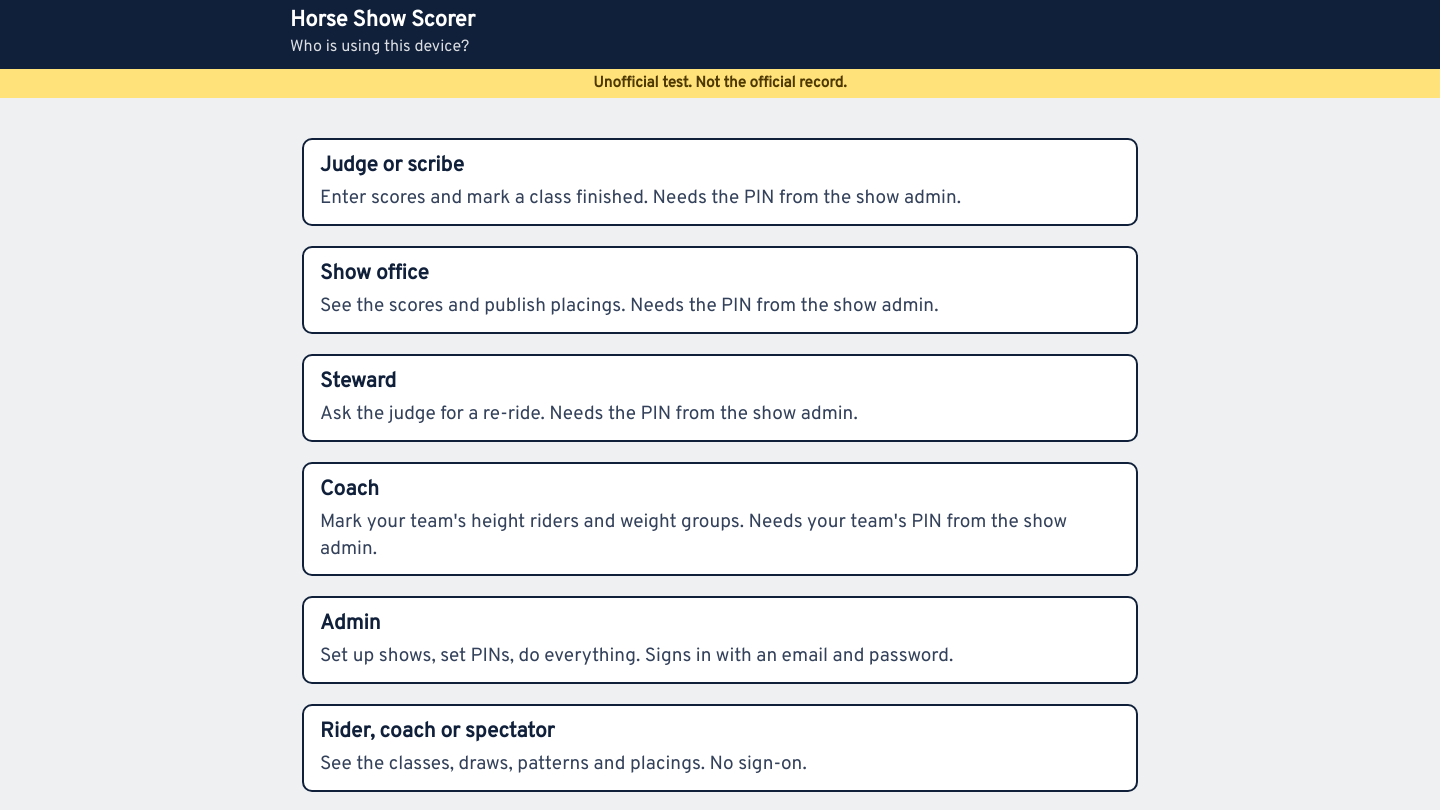
Test: the first screen asks who is using the device › a wrong PIN is refused in plain words
Click the button "Judge or scribe". click: (392, 166)
box: 302,138 -> 1138,226
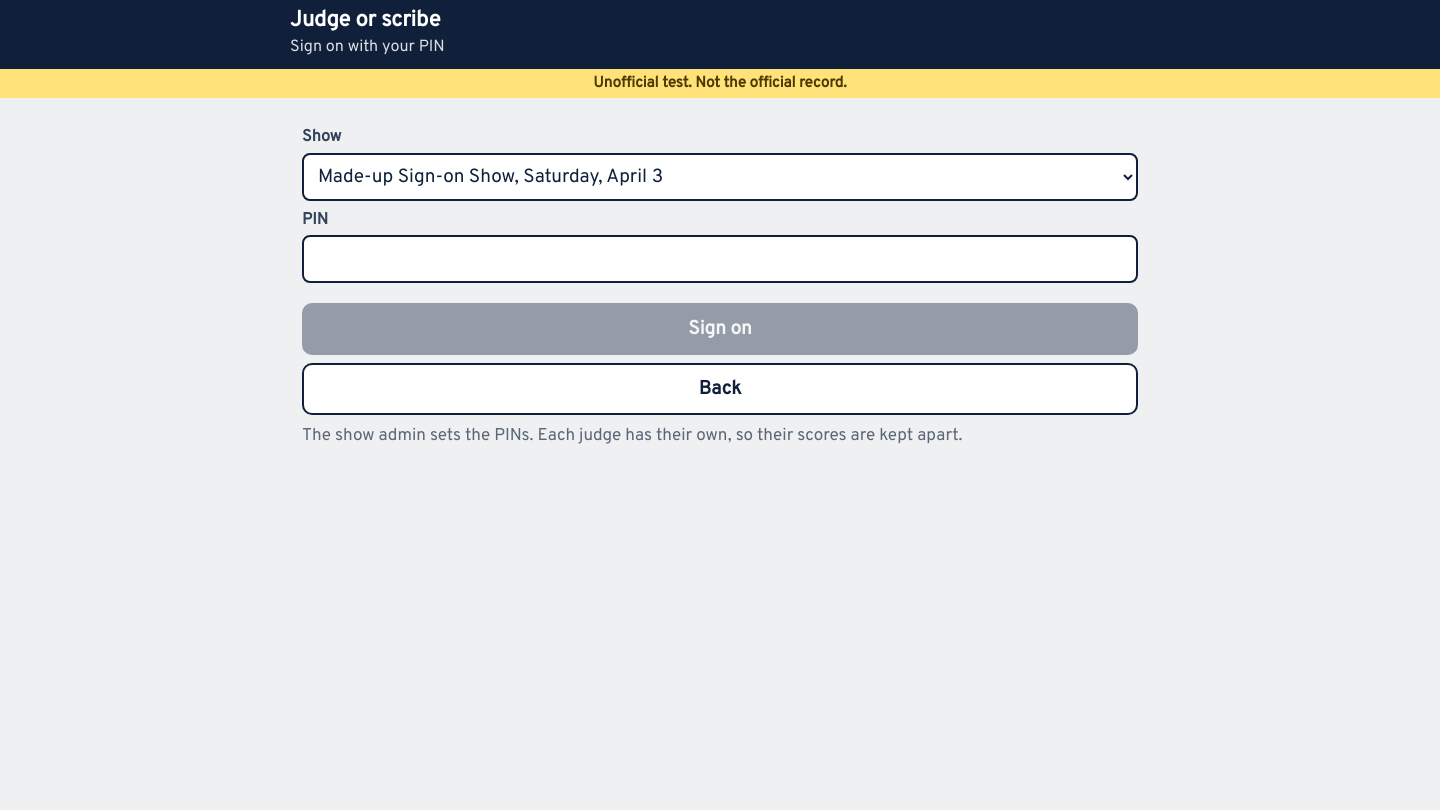
Type "999999" into the password field labelled "PIN". click: (720, 259)
box: 302,235 -> 1138,283
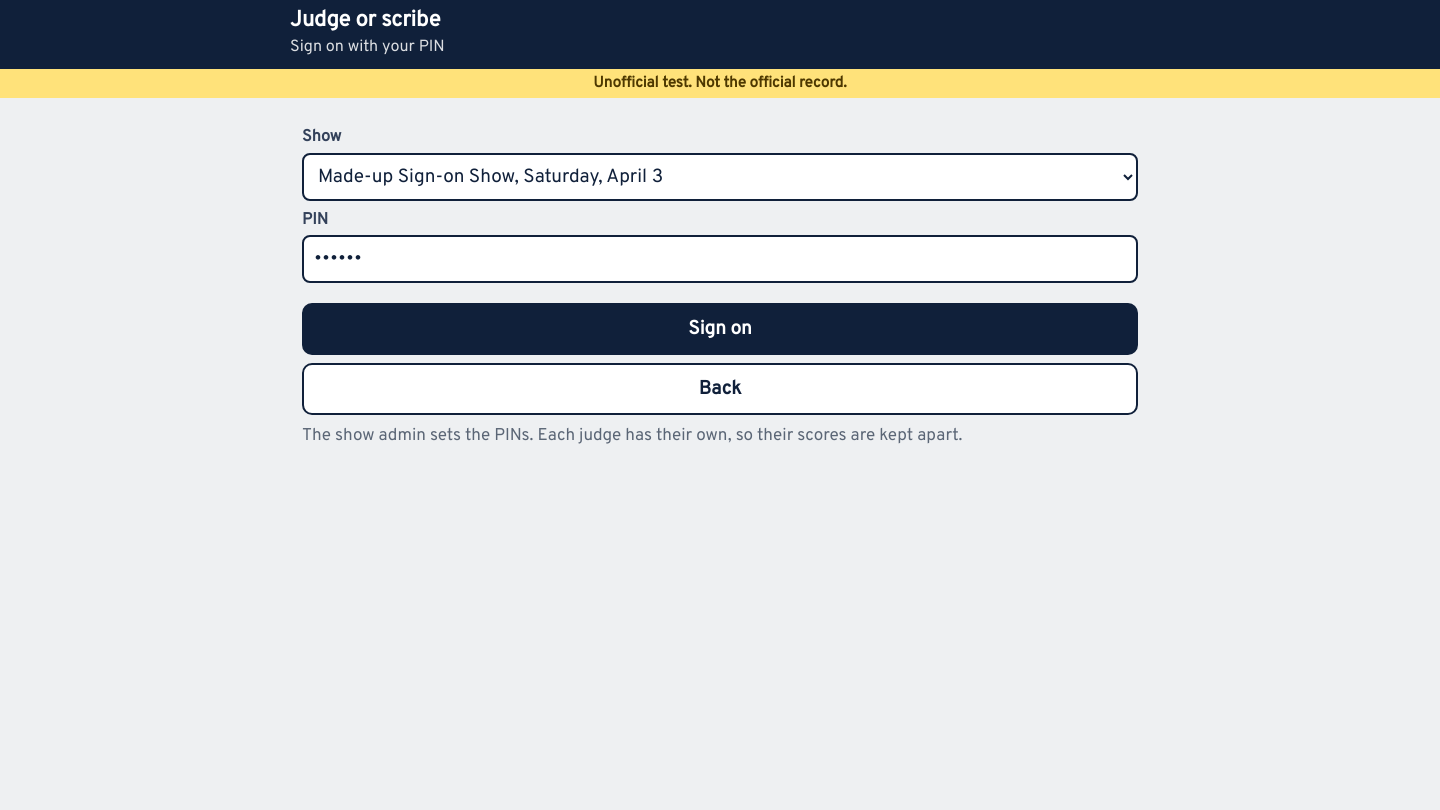
Click the button "Sign on". click: (720, 329)
box: 302,303 -> 1138,355
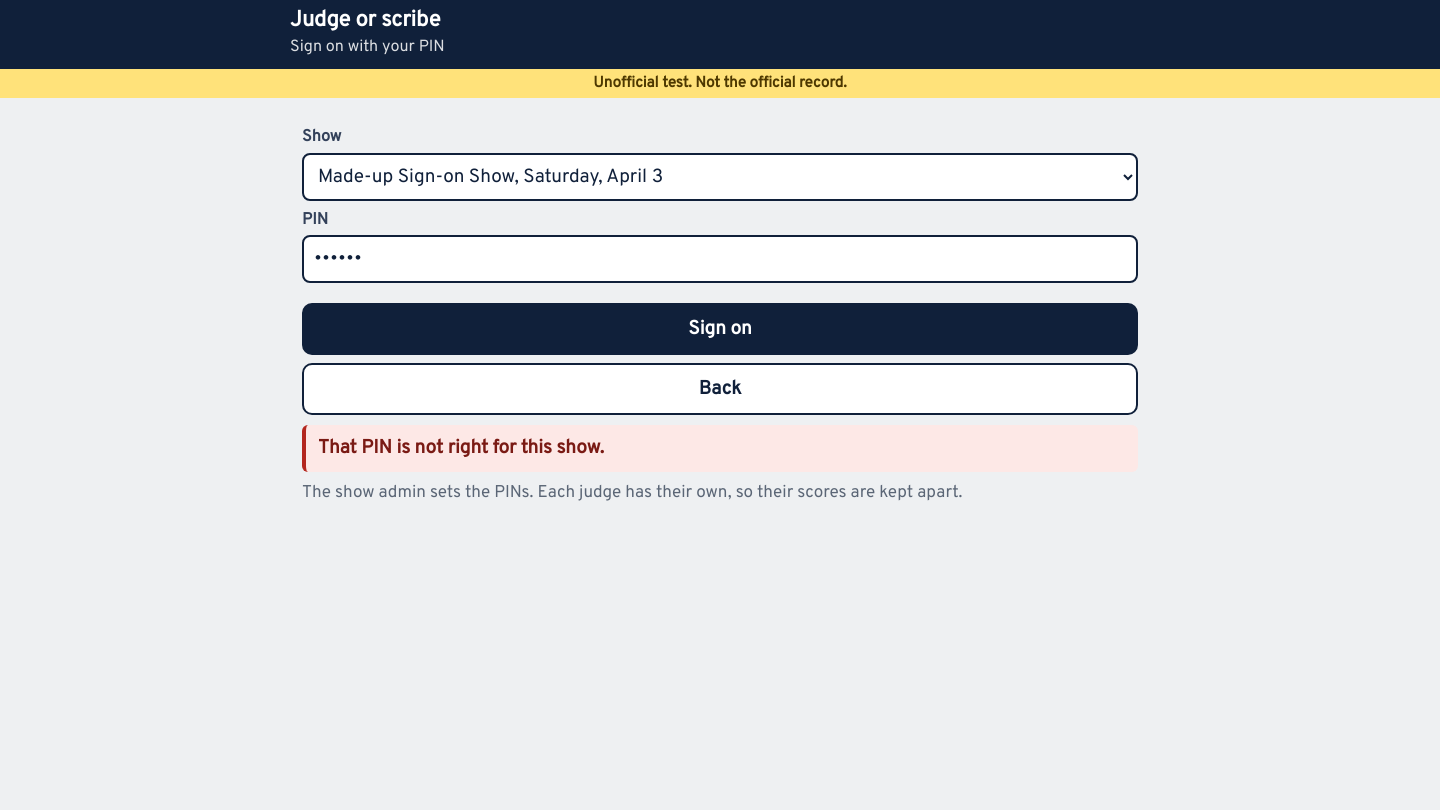
Now the message shows "not right for this show", box 318,436 -> 604,460
